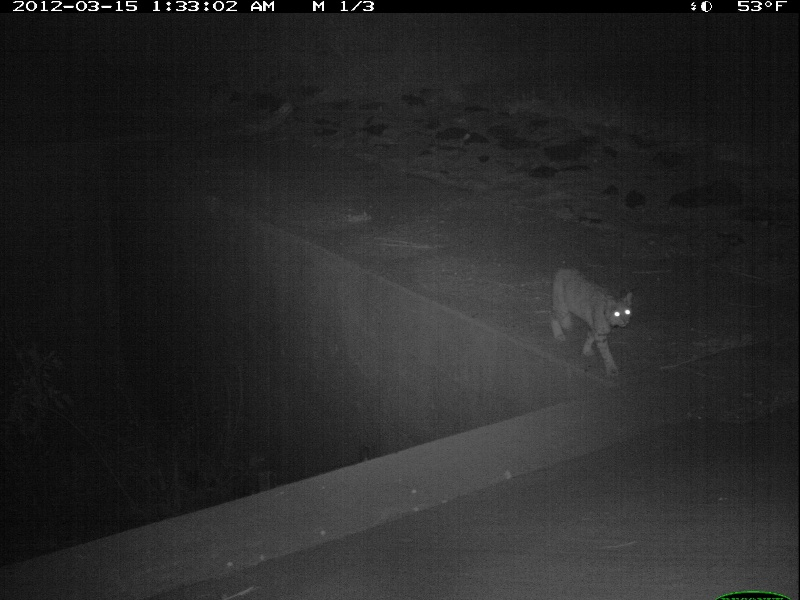cat: (549, 266, 641, 380)
